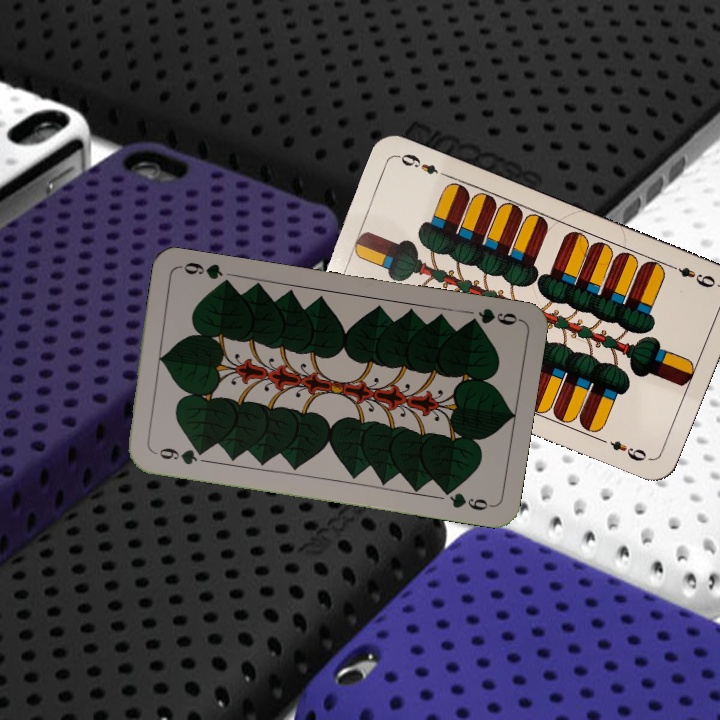E9: (664, 260, 718, 291)
G9: (462, 304, 523, 329), (148, 443, 208, 468)
